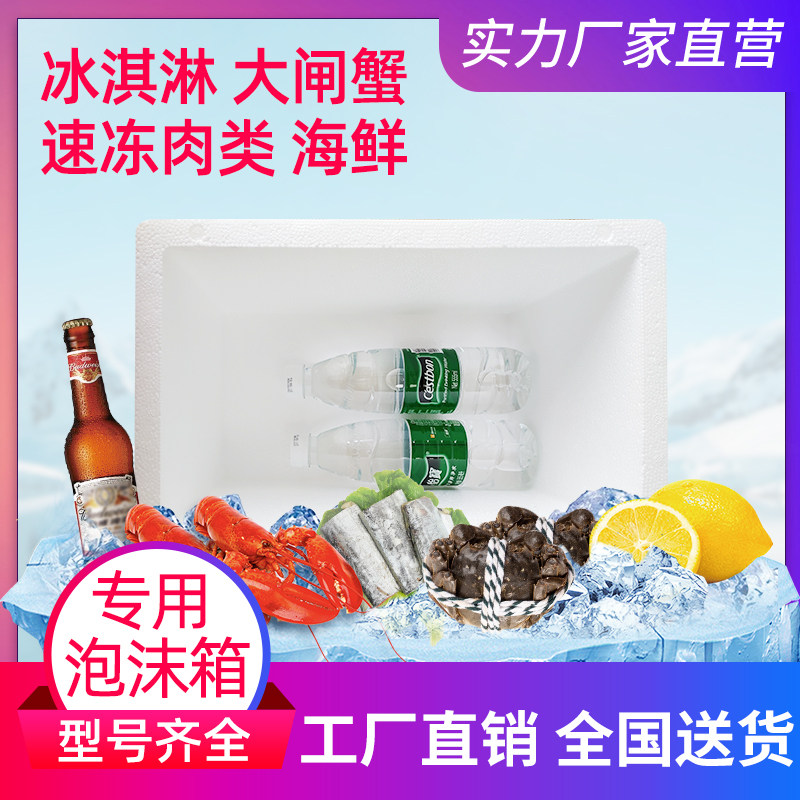泡沫箱: (135, 220, 666, 526)
